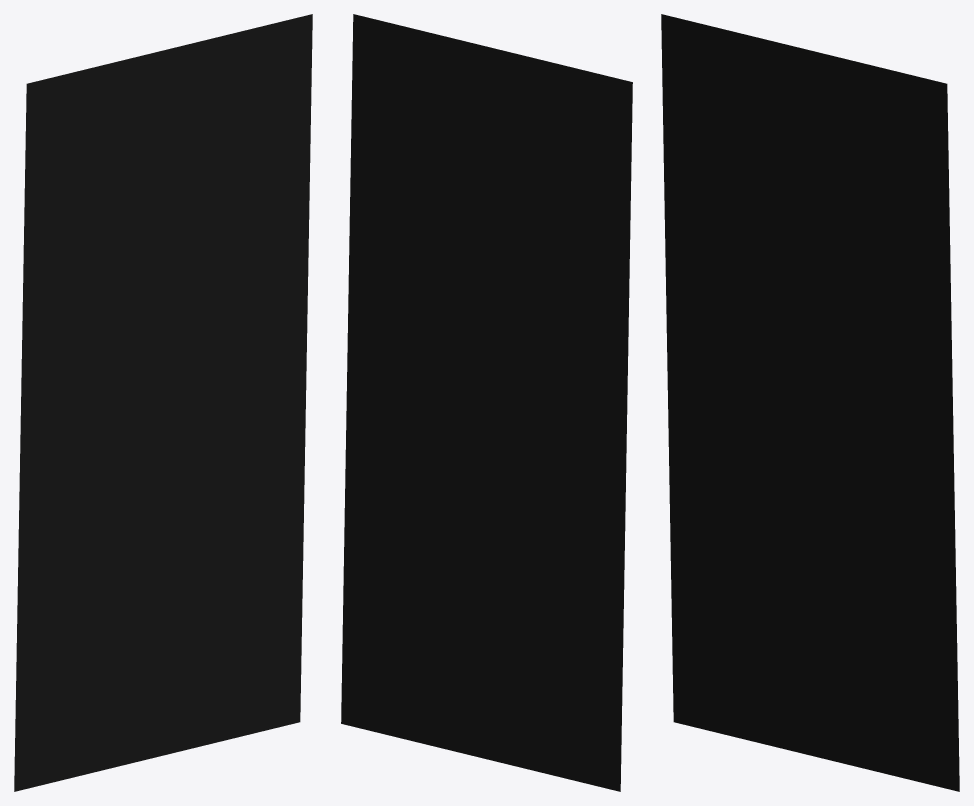
3 views of the same model, side by side, from view 1: azimuth 30°, elevation 25°; view 2: azimuth 150°, elevation 25°; view 3: azimuth 330°, elevation 25° (orthographic). The views are drawn at different scales.
Parts seen in each view (by area): view 1: scorebord.001; view 2: scorebord.001; view 3: scorebord.001.
Boxes of the visible parts, <box> form: scorebord.001: <box>14,14,312,791</box>; scorebord.001: <box>341,14,632,791</box>; scorebord.001: <box>661,14,959,791</box>.
Size of the model in its own units: 0.00295 by 0.00706 by 0.000222.
Materials: 1 (1 with a texture image).
